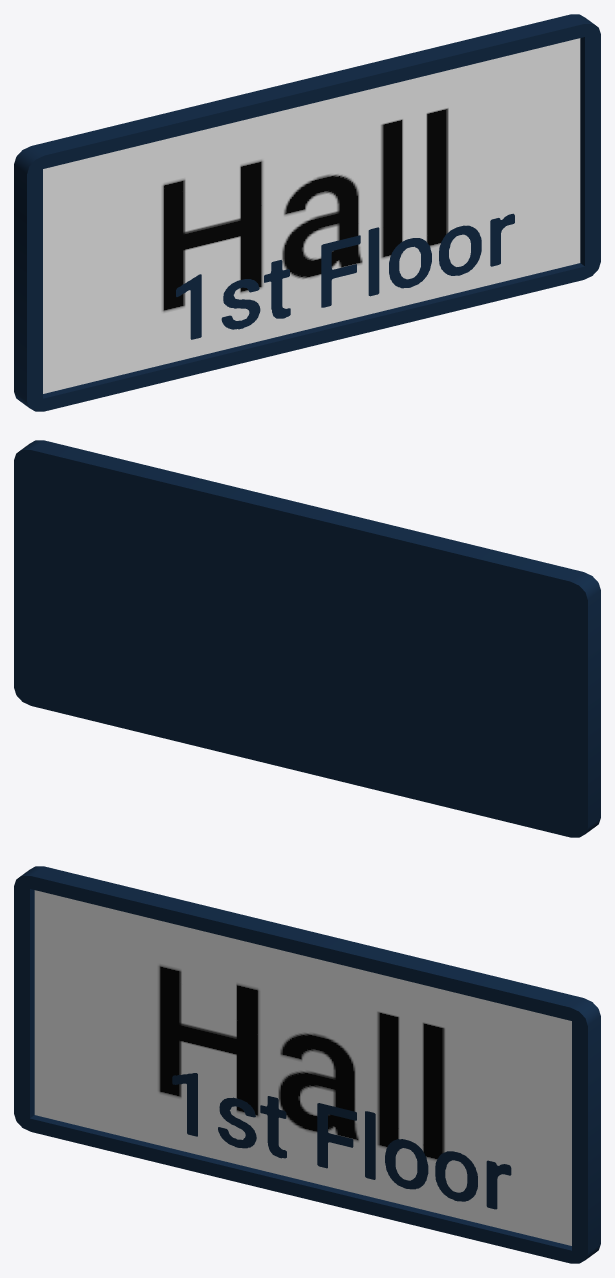
The model's file is EST - Hall.fbx.
3 renders of one model, top to bottom at view 1: azimuth 30°, elevation 25°; view 2: azimuth 150°, elevation 25°; view 3: azimuth 330°, elevation 25°, orthographic.
Visible parts, largest first — view 1: CLIMSO; view 2: CLIMSO; view 3: CLIMSO.
Part boxes in pixels (left/top/right/bottom): CLIMSO: left=14, top=14, right=600, bottom=411; CLIMSO: left=14, top=440, right=600, bottom=837; CLIMSO: left=14, top=866, right=600, bottom=1263.
Bounding box in the file's own units: 351 × 149 × 13.93.
